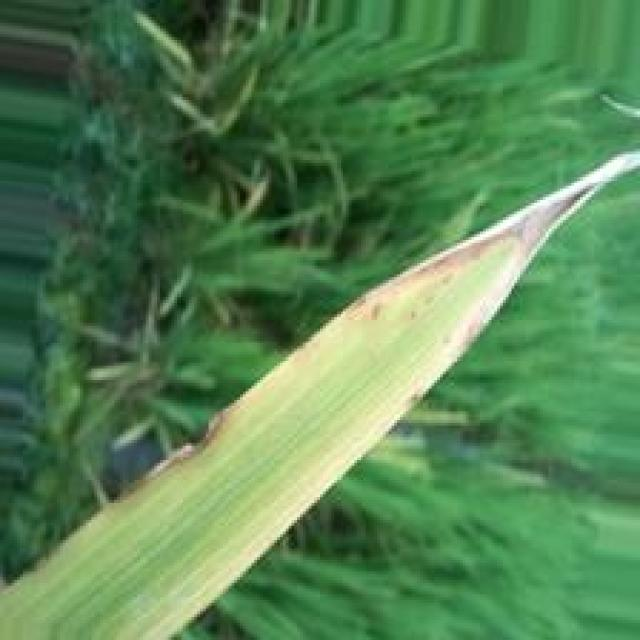Leaf_Scald: (342, 178, 596, 420)
